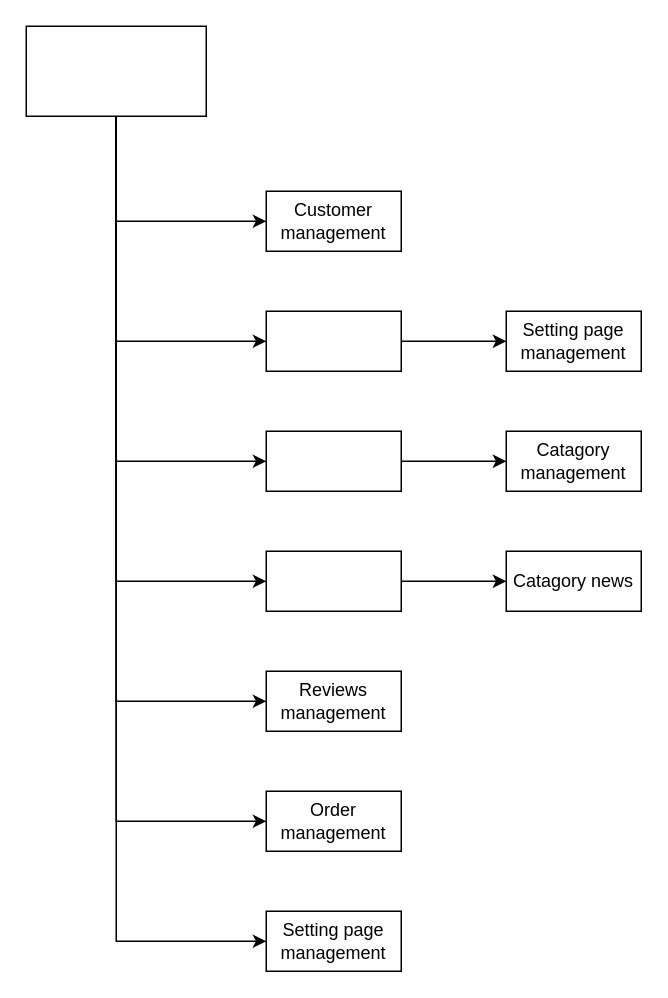
Some shapes in this 668 by 998 pixel diagram are drawn without their labels. Here are the shapes that lost their labels. From the top down, the box of each, then its label:
(25, 25, 206, 116): Dashboard
(265, 310, 401, 371): Admin management
(265, 430, 401, 491): Book management
(265, 550, 401, 611): News management
